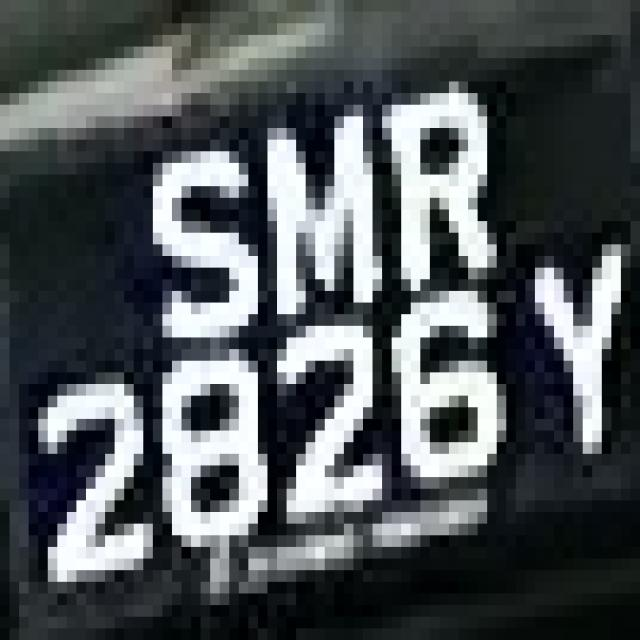2: (239, 338, 411, 570), (39, 338, 162, 605)
6: (372, 291, 535, 512)
8: (124, 361, 287, 570)
M: (248, 70, 382, 314)
R: (382, 46, 525, 291)
S: (134, 116, 248, 408)
Y: (516, 198, 630, 500)
